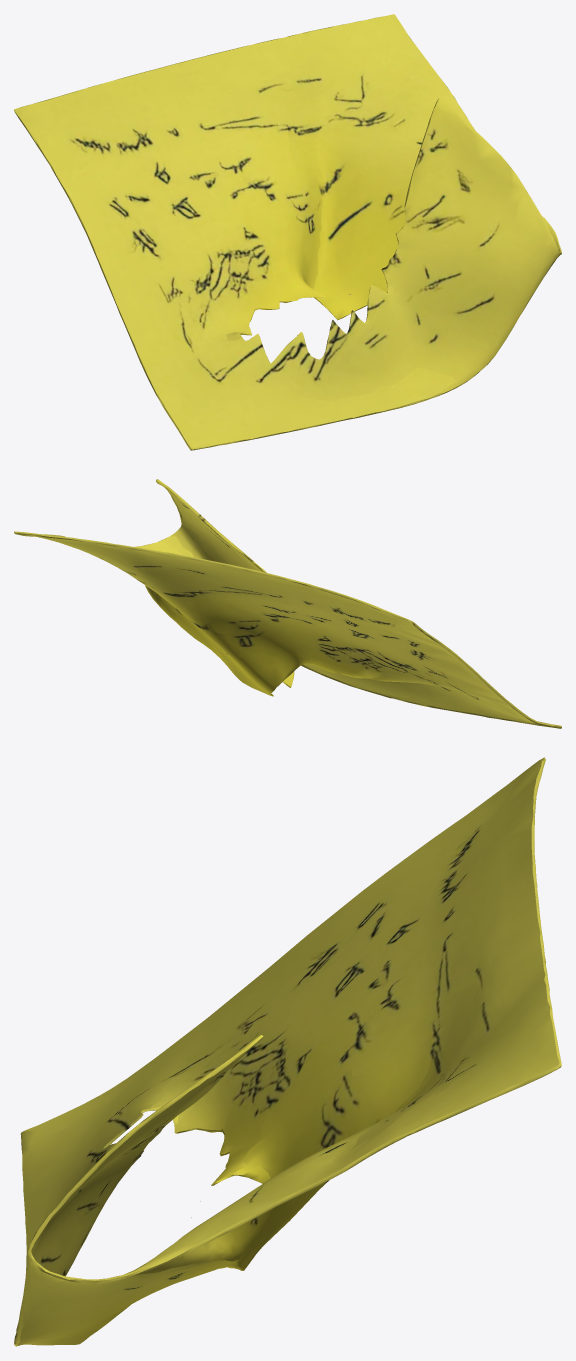
The model's file is producer-note.glb.
3 views of the same model, one above another, from view 1: azimuth 30°, elevation 25°; view 2: azimuth 150°, elevation 25°; view 3: azimuth 270°, elevation 25° (orthographic). The views are drawn at different scales.
Visible parts, largest first — view 1: geometry_0; view 2: geometry_0; view 3: geometry_0.
Part boxes in pixels (x1,y1,x2,y2): geometry_0: [14, 14, 561, 450]; geometry_0: [14, 479, 561, 728]; geometry_0: [14, 757, 561, 1346].
Bounding box in the file's own units: 0.076 × 0.0437 × 0.0547.
1 material, 1 textured.
